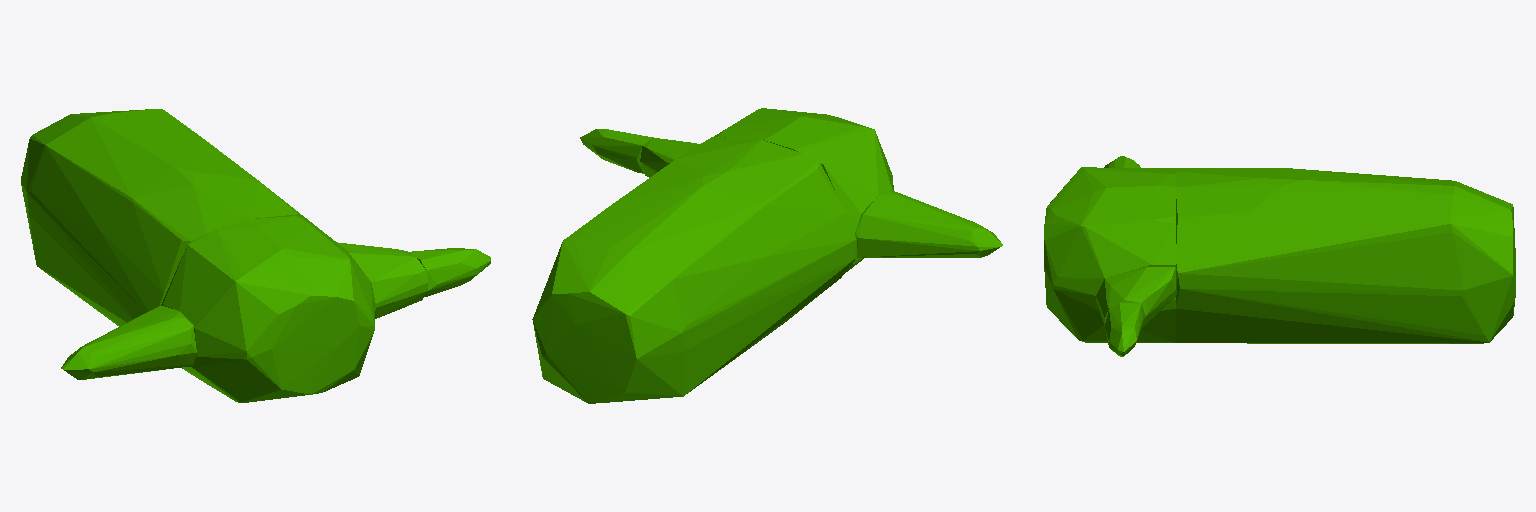
The robot description file, URDF, robot "blob078":
<robot name="blob078">
  <link name="random_obj_078">
    <contact>
      <lateral_friction value="1.0"/>
      <rolling_friction value="0.0"/>
      <inertia_scaling value="3.0"/>
      <contact_cfm value="0.0"/>
      <contact_erp value="1.0"/>
    </contact>
    <inertial>
      <origin rpy="0 0 0" xyz="0 0 0"/>
      <mass value="0.1"/>
      <inertia ixx="1" ixy="0" ixz="0" iyy="1" iyz="0" izz="0"/>
    </inertial>
    <visual>
      <origin rpy="0 0 0" xyz="0 0 0"/>
      <geometry>
        <mesh filename="078.obj" scale="0.015 0.015 0.015"/>
      </geometry>
      <material name="blockmat">
        <color rgba="0.32 0.70 0.01 1"/>
      </material>
    </visual>
    <collision>
      <origin rpy="0 0 0" xyz="0 0 0"/>
      <geometry>
        <mesh filename="078.obj" scale="0.015 0.015 0.015"/>
      </geometry>
    </collision>
  </link>
</robot>

--- What the picture shows (computed from the rendered views, not written in the file) ---
Views: 3 orthographic renders of the robot side by side, from view 1: azimuth 30°, elevation 25°; view 2: azimuth 150°, elevation 25°; view 3: azimuth 270°, elevation 25°.
Robot: blob078 — 1 links, 0 joints (none); root link random_obj_078; default pose: every joint at zero.
Links seen in each view (by area): view 1: random_obj_078; view 2: random_obj_078; view 3: random_obj_078.
Link boxes in pixels (x1=…): random_obj_078: x1=21, y1=109, x2=490, y2=402; random_obj_078: x1=532, y1=108, x2=1002, y2=403; random_obj_078: x1=1044, y1=156, x2=1515, y2=356.
Bounding box of the posed robot: 0.0905 × 0.0909 × 0.0316 m (x, y, z).
Meshes: 1 distinct files referenced, 1 mesh visuals loaded (1 OBJ).